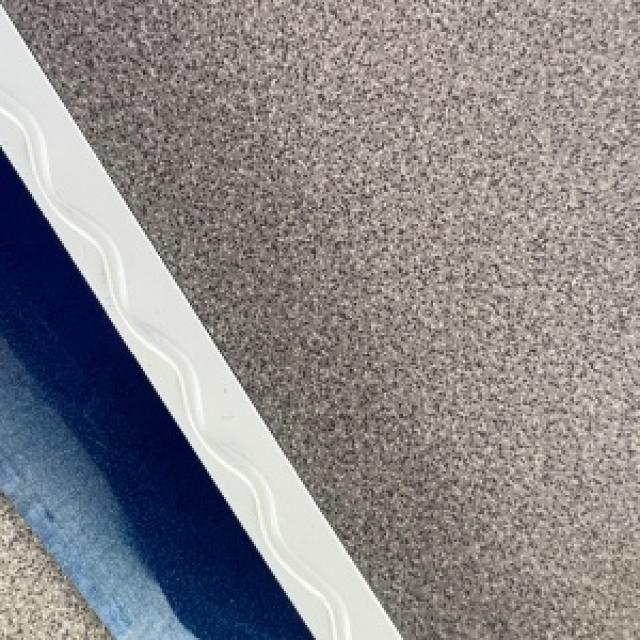healthy: (0, 0, 638, 638), (0, 6, 397, 638)
